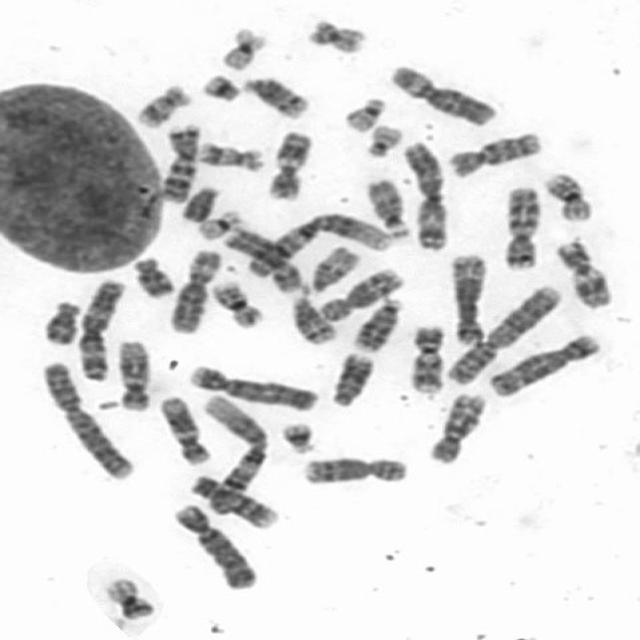A1: (239, 209, 396, 279), (196, 393, 270, 514)
A2: (442, 282, 564, 385), (37, 359, 136, 481)
A3: (398, 137, 450, 252), (72, 276, 128, 381)
B4: (168, 499, 260, 591), (183, 360, 321, 412)
B5: (485, 331, 603, 398), (445, 250, 489, 345)
C10: (444, 128, 545, 180), (422, 388, 488, 464)
C11: (550, 237, 614, 309), (263, 128, 314, 202)
C12: (155, 392, 211, 467), (112, 337, 152, 411)
C6: (385, 61, 498, 128), (166, 246, 223, 335)
C7: (498, 181, 541, 273), (158, 123, 205, 206)
C8: (314, 265, 406, 322), (298, 452, 409, 487)
C9: (186, 472, 279, 530), (409, 323, 445, 396)
D13: (347, 294, 405, 353), (324, 350, 376, 407)
D14: (238, 74, 310, 120), (287, 293, 337, 345)
D15: (362, 176, 412, 240), (301, 244, 362, 294)
E16: (207, 278, 265, 330), (540, 170, 592, 222)
E17: (131, 82, 192, 130), (194, 138, 266, 174)
E18: (39, 297, 83, 346), (128, 254, 175, 299)
F19: (215, 26, 270, 71), (192, 208, 246, 242)
F20: (304, 15, 368, 55), (104, 577, 160, 621)
G21: (277, 418, 318, 456), (197, 72, 244, 104)
G22: (340, 94, 388, 134), (359, 120, 404, 158)
X: (223, 225, 305, 294)
Y: (175, 182, 222, 224)
